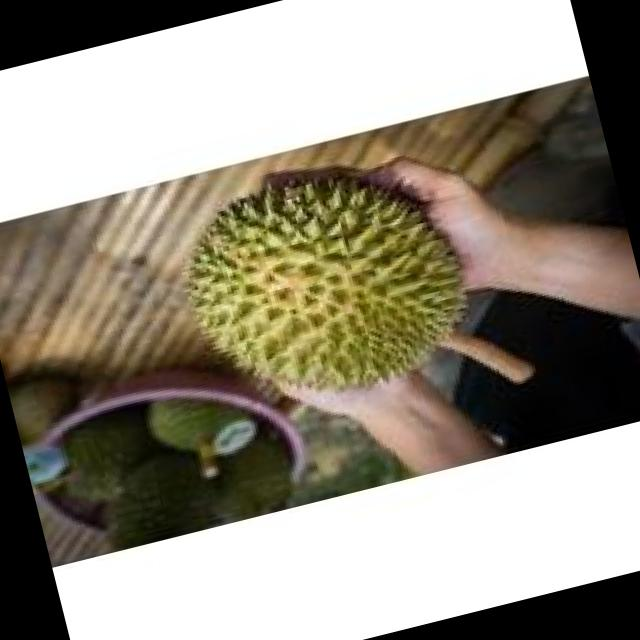fruit: (127, 110, 529, 477)
